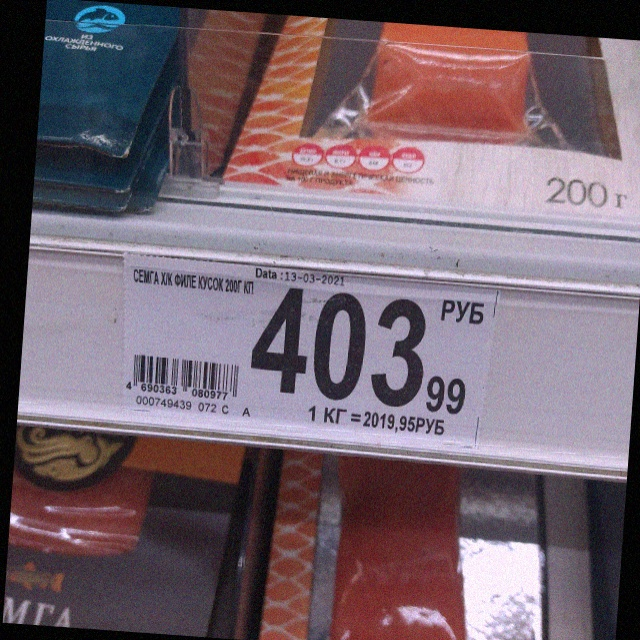barcode: (126, 350, 239, 400)
name: (131, 265, 256, 297)
price: (247, 286, 469, 417)
price_tag: (123, 252, 503, 456)
